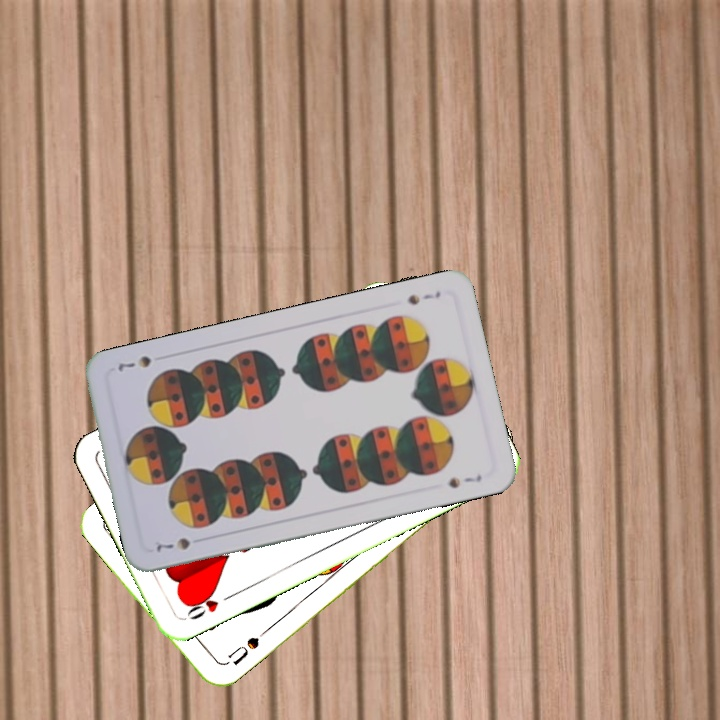HO: (182, 587, 235, 623)
S7: (152, 533, 193, 555), (404, 287, 443, 308)
SU: (218, 632, 262, 669)
